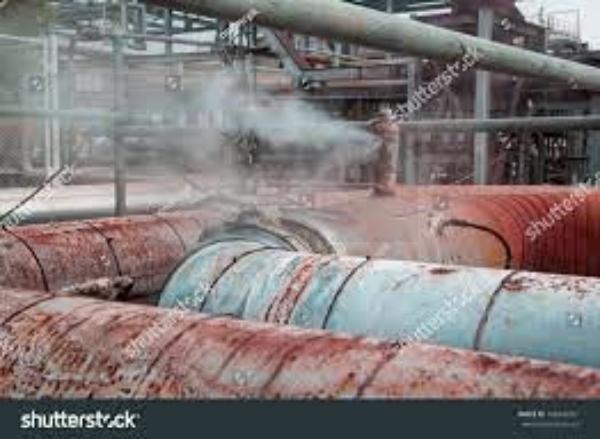gas: (114, 74, 418, 242)
